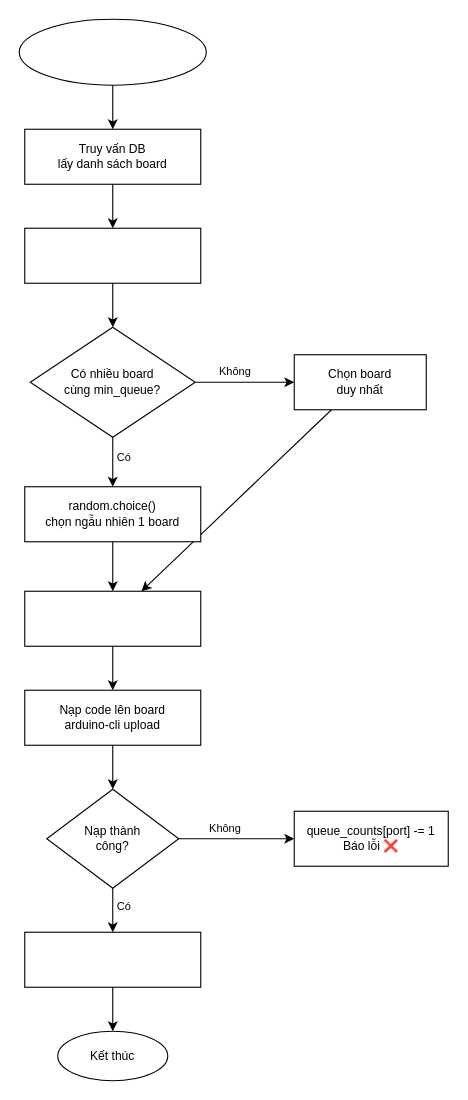
Image size: 468x1100. Some labels were removed from this diagram. Each missing label, with the centre of its shape:
Duyệt queue_counts tìm min_queue: [112,255]
queue_counts[port] -= 1 Trả kết quả ✅: [112,959]
SV bấm "Khởi chạy Phần cứng": [112,51]
threading.Lock() queue_counts[port] += 1: [112,618]
